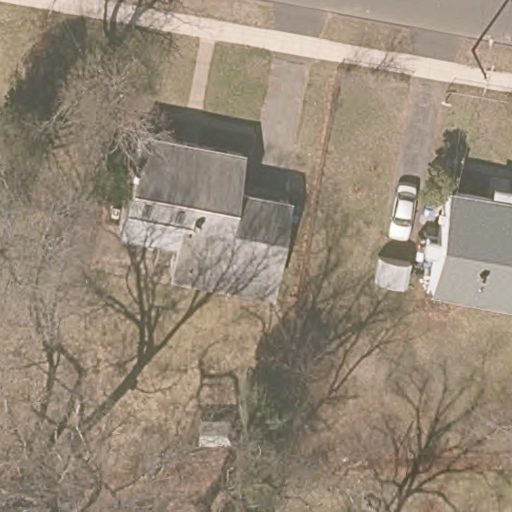DT: (471, 48, 495, 98)
